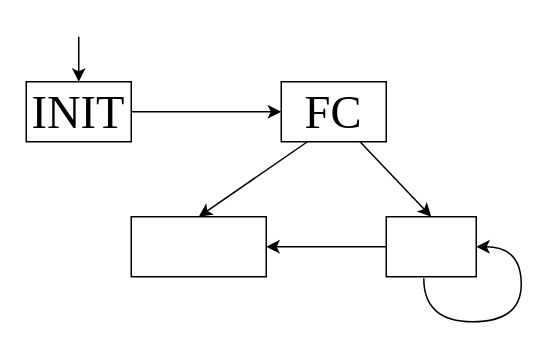
The diagram is 548 pixels wide and 348 high, and some of its shapes have lost their labels. The shapes that lost their labels are listed below. From the top down, each one's centre as x and y in pixels, then its label:
[198,246]: RET
[430,246]: GN
